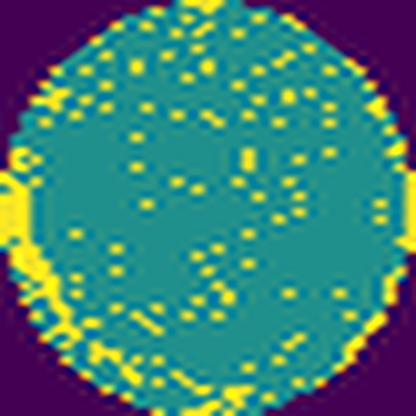Edge-Loc: (0, 170, 85, 350), (391, 168, 415, 255)
